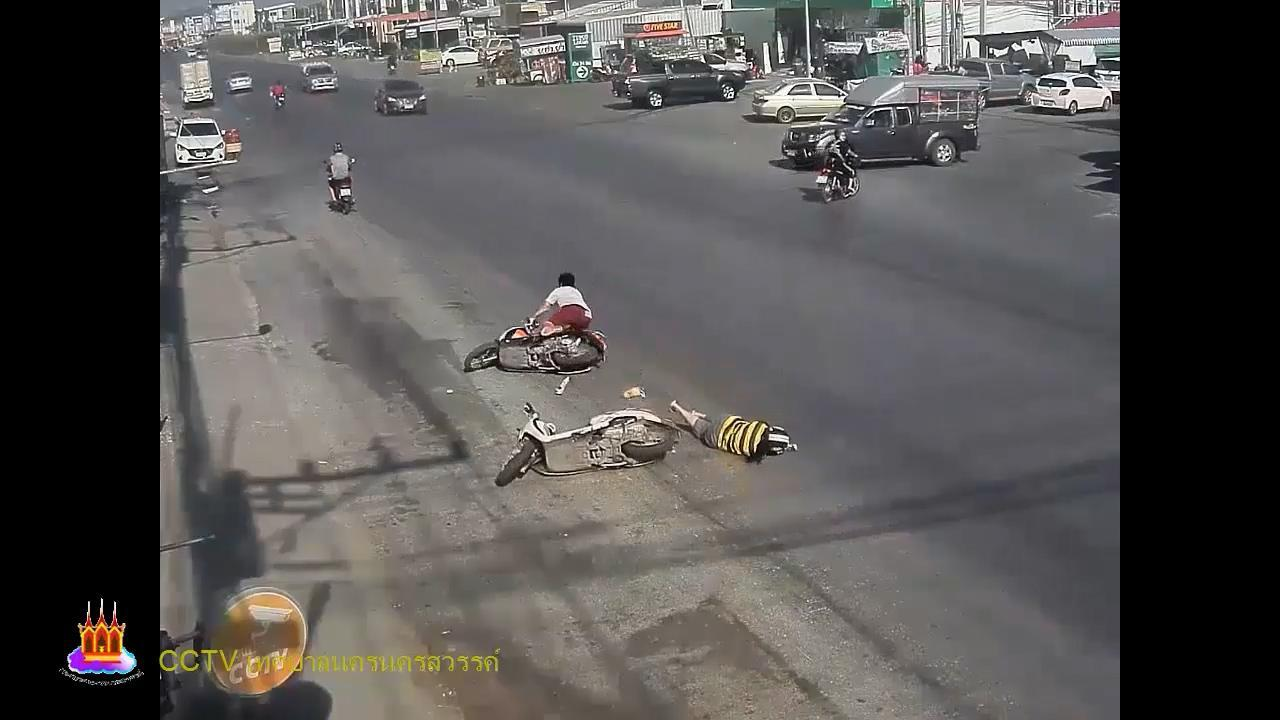accident: (667, 395, 799, 468), (525, 269, 600, 337)
